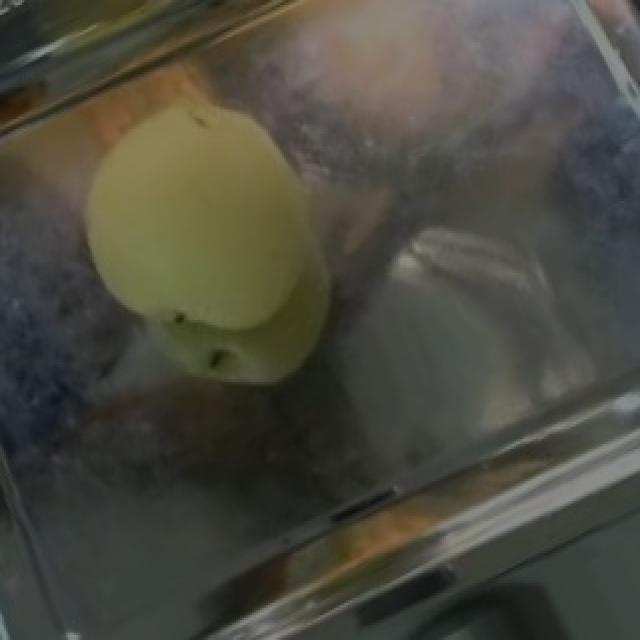Fruit: (0, 0, 308, 362)
